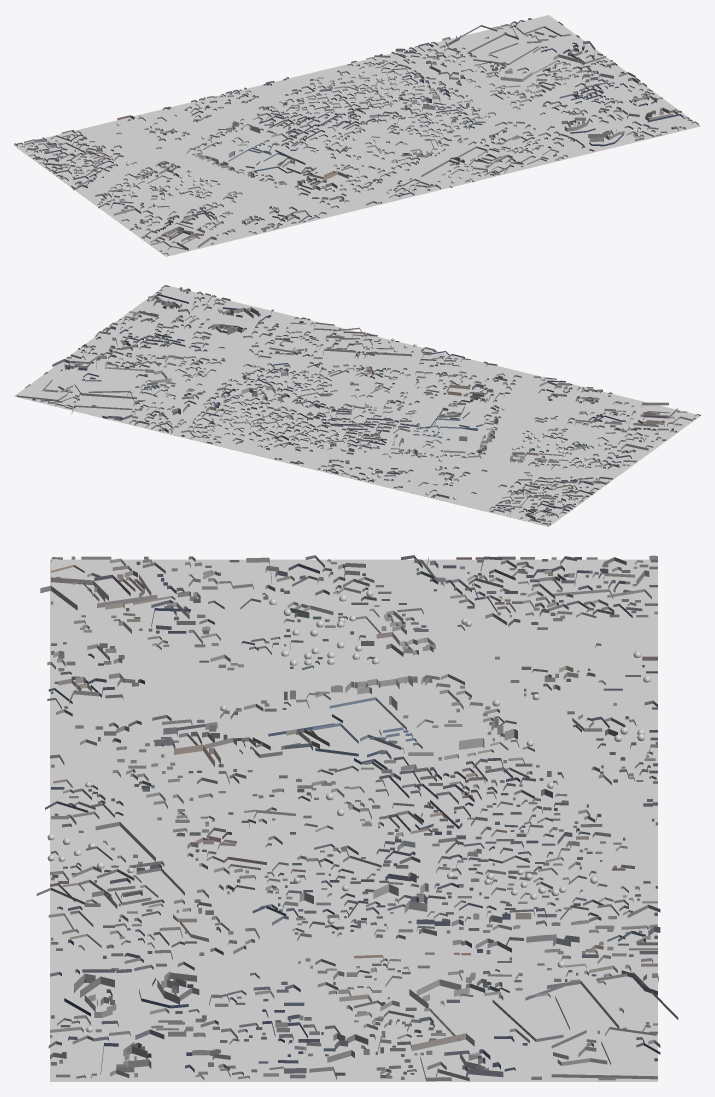
3 renders of one model, top to bottom at view 1: azimuth 30°, elevation 25°; view 2: azimuth 150°, elevation 25°; view 3: azimuth 270°, elevation 25°, orthographic. The views are drawn at different scales.
Visible parts, largest first — view 1: Ground_Base; view 2: Ground_Base; view 3: Ground_Base.
Part boxes in pixels (x1,y1,x2,y2): Ground_Base: (14,15,700,256); Ground_Base: (14,285,699,526); Ground_Base: (50,559,657,1081).
Size of the model in its own units: 1986 by 23.83 by 1027.
